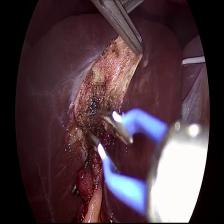Bipolar: (77, 100, 209, 224)
Grasper: (91, 0, 145, 62)
